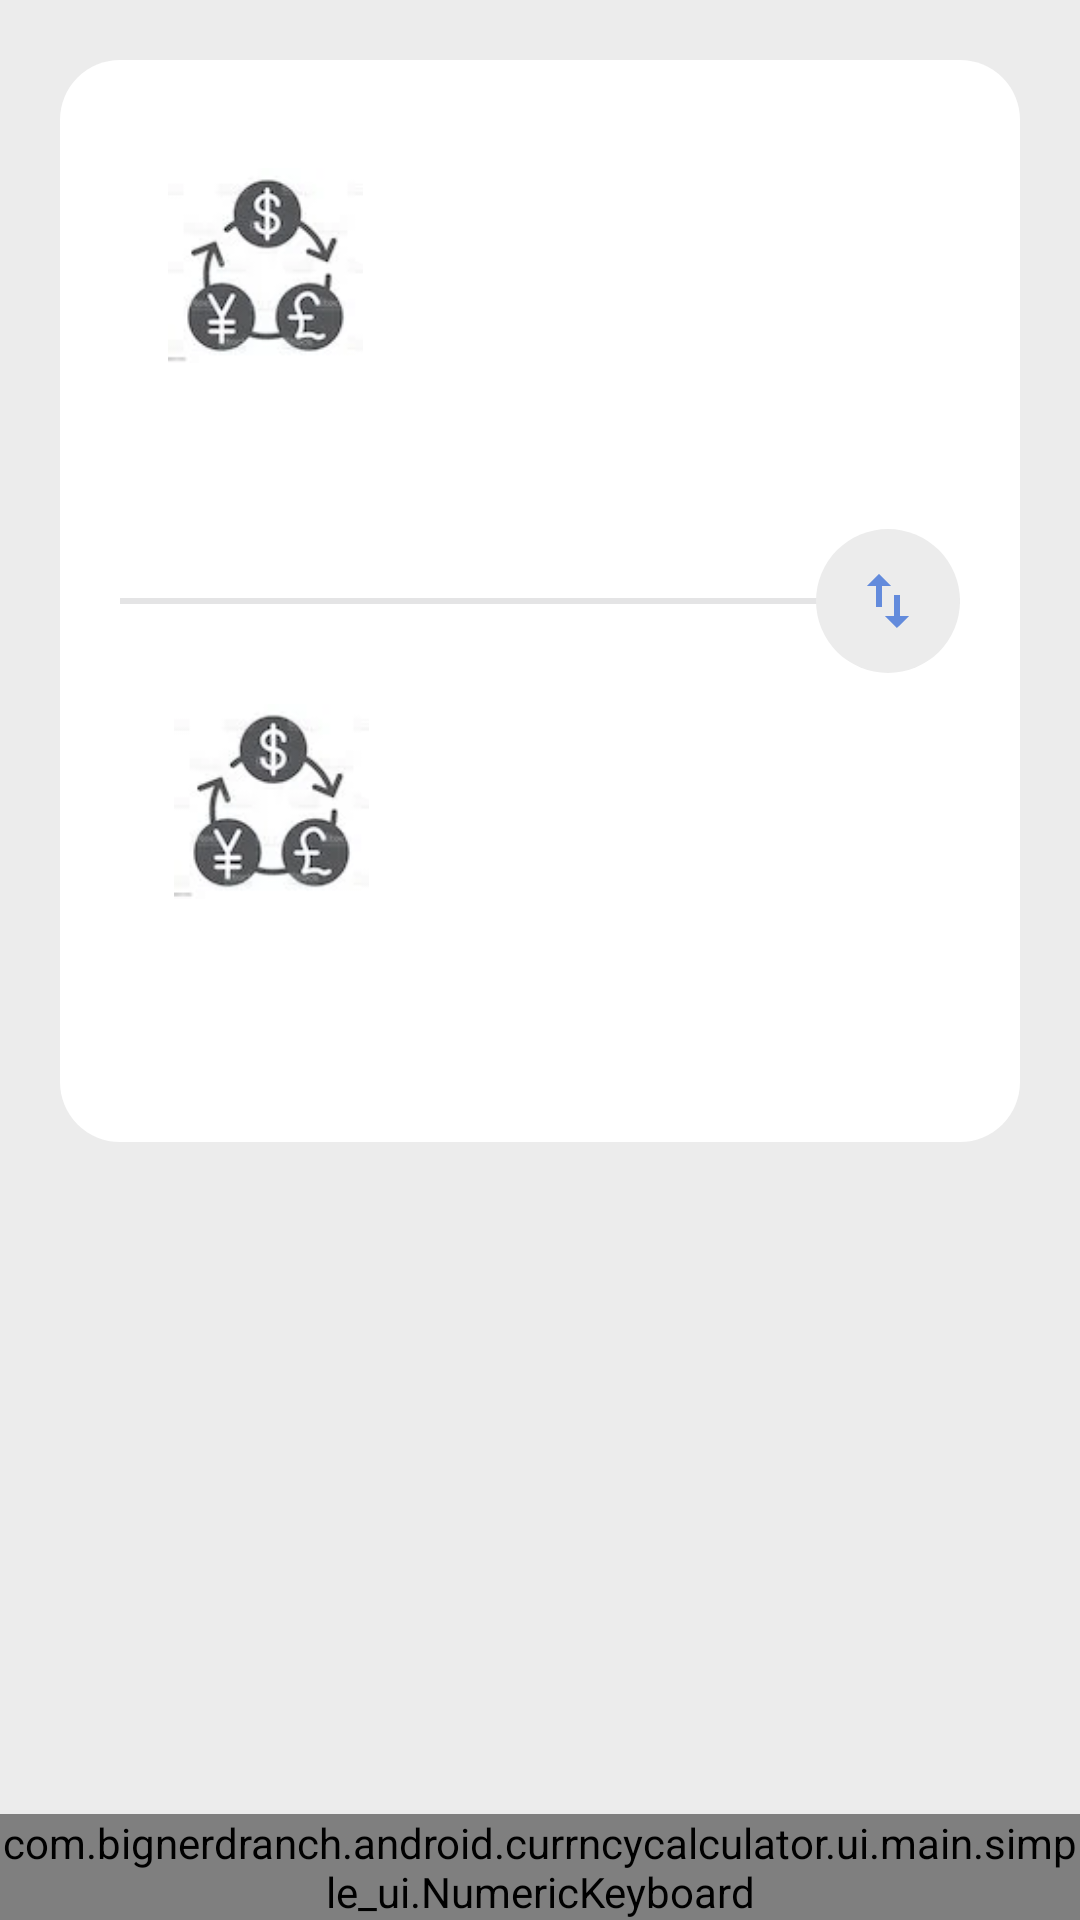

Screen size 1080*1920. Icon name, then its center in pixels as (x=x, y=y):
currency: (x=256, y=270), (x=262, y=805)
swap: (x=888, y=601)
